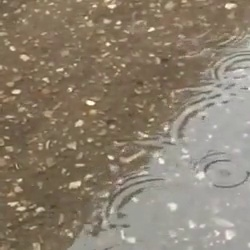drop: (169, 93, 250, 151), (107, 175, 172, 230), (195, 152, 250, 189), (214, 52, 250, 87), (17, 100, 38, 115), (132, 20, 148, 35)
